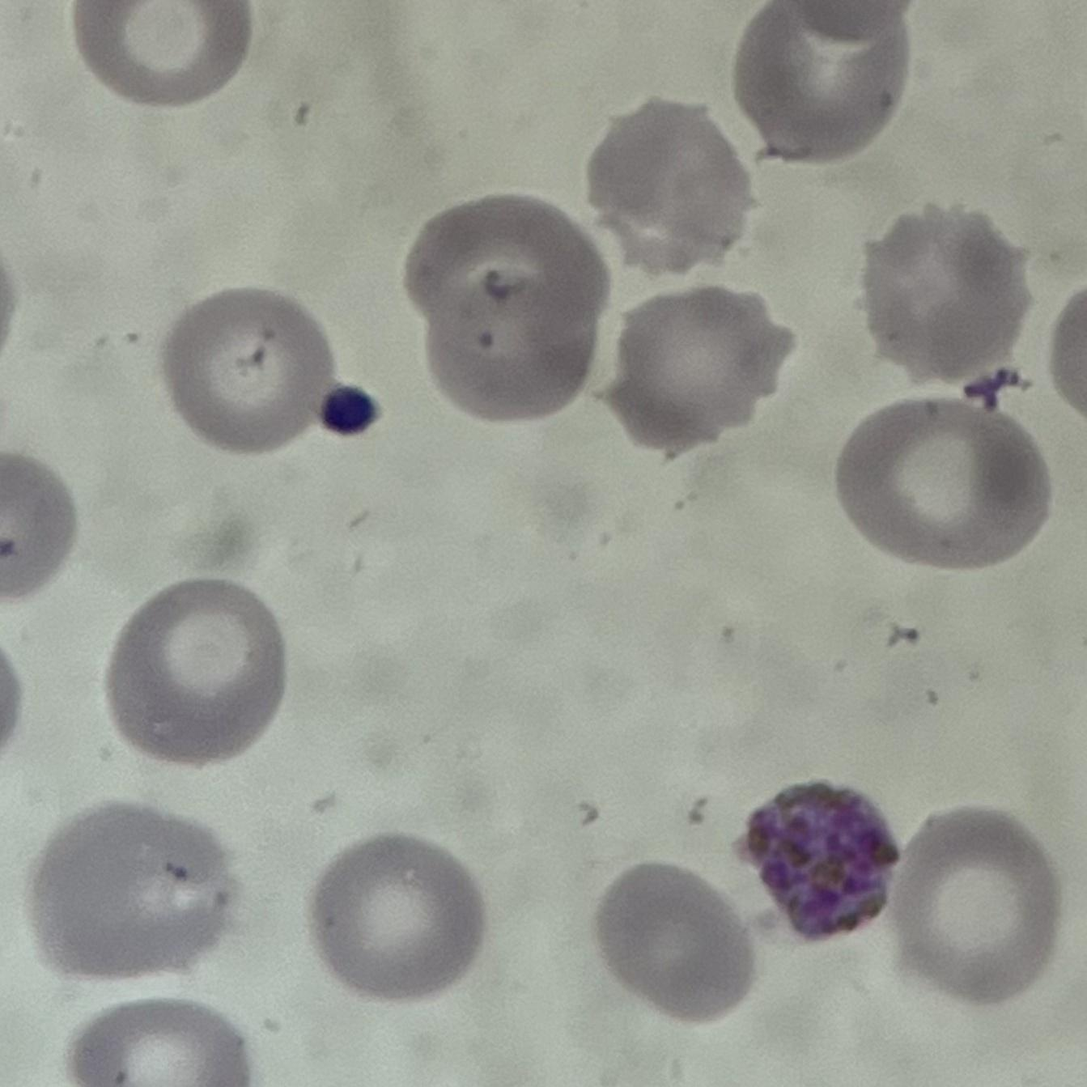Infected: (740, 783, 904, 944)
Uninfected: (839, 395, 1048, 579), (103, 578, 287, 761), (35, 805, 235, 973), (410, 190, 611, 348), (599, 298, 798, 456), (898, 810, 1057, 1007), (585, 93, 749, 271), (737, 1, 909, 168), (596, 859, 758, 1030), (313, 832, 479, 994), (866, 201, 1017, 375), (170, 287, 334, 447), (424, 273, 589, 422), (71, 0, 262, 109)
